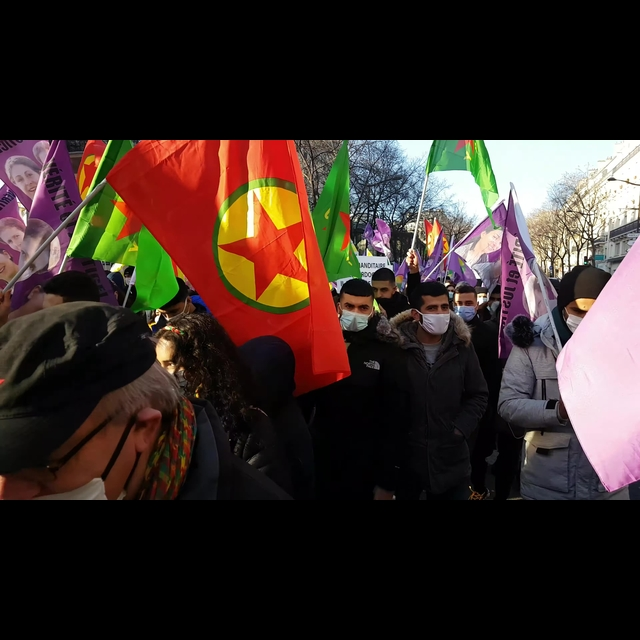PKK: (211, 173, 319, 318)
